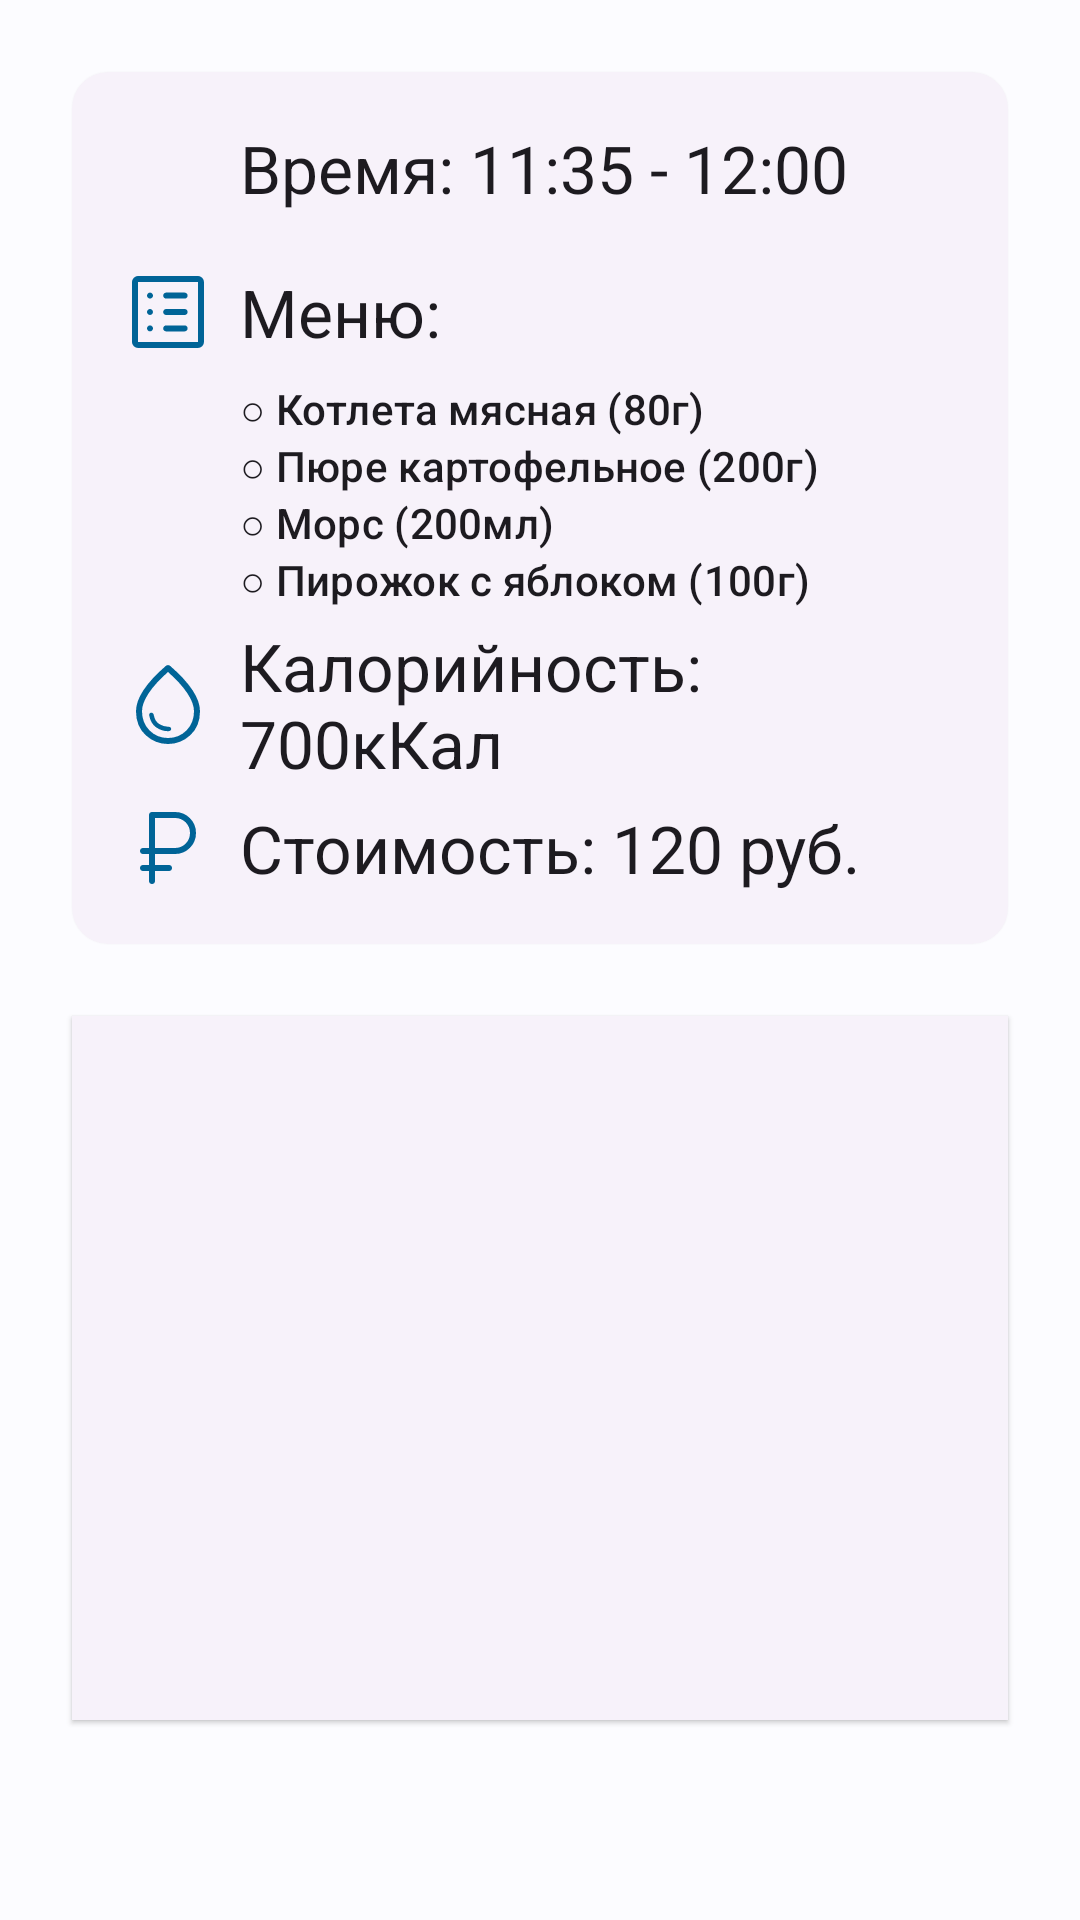

Screen size 1080w x 1920h. Icon name, then its box in pixels as [left=x1, top=y1, right=x2, bottom=y2]:
menu icon: [left=132, top=276, right=204, bottom=348]
price icon: [left=140, top=812, right=196, bottom=884]
